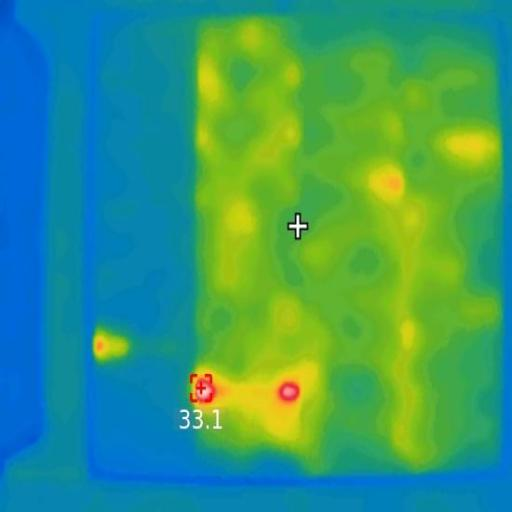hotspot: (192, 374, 220, 406), (279, 381, 303, 402)
